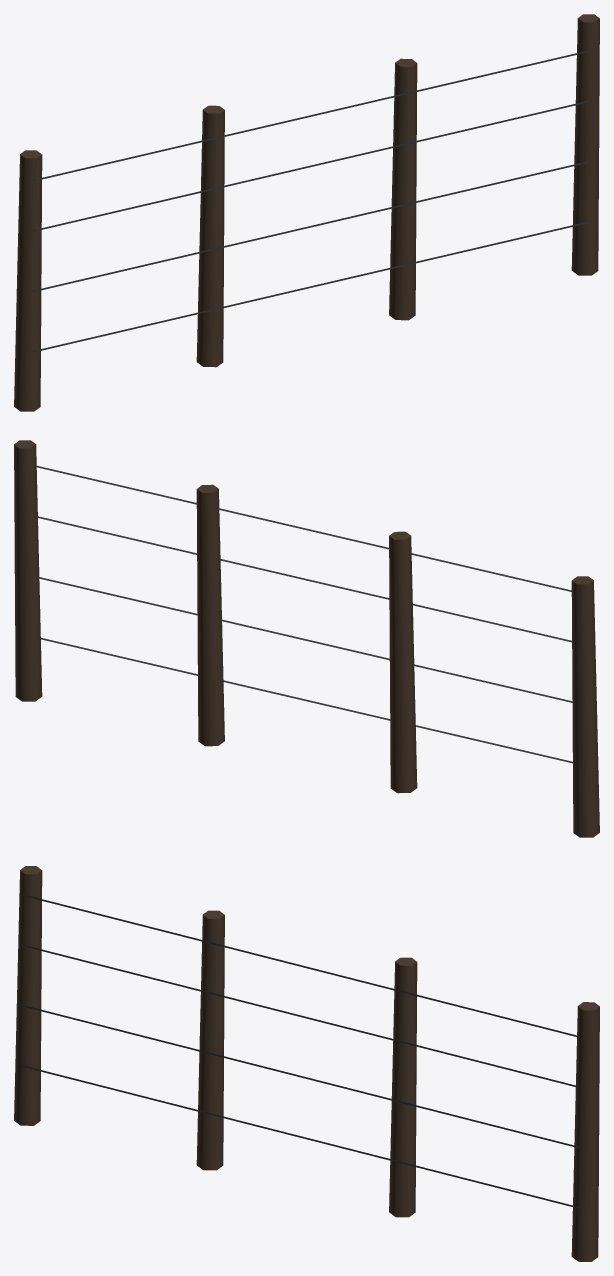
The model's file is barbed_fence.glb.
3 renders of one model, top to bottom at view 1: azimuth 30°, elevation 25°; view 2: azimuth 150°, elevation 25°; view 3: azimuth 330°, elevation 25°, orthographic.
Parts seen in each view (by area): view 1: barbed_fence; view 2: barbed_fence; view 3: barbed_fence.
Boxes of the visible parts, box(x1,y1,x2,y2) form: barbed_fence: box(14, 14, 599, 411); barbed_fence: box(14, 440, 599, 837); barbed_fence: box(14, 866, 599, 1261).
Size of the model in its own units: 3.02 by 1.25 by 0.1225.
1 material, 1 textured.
